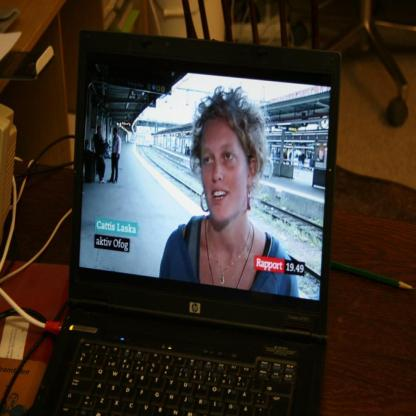board: (29, 44, 347, 416)
